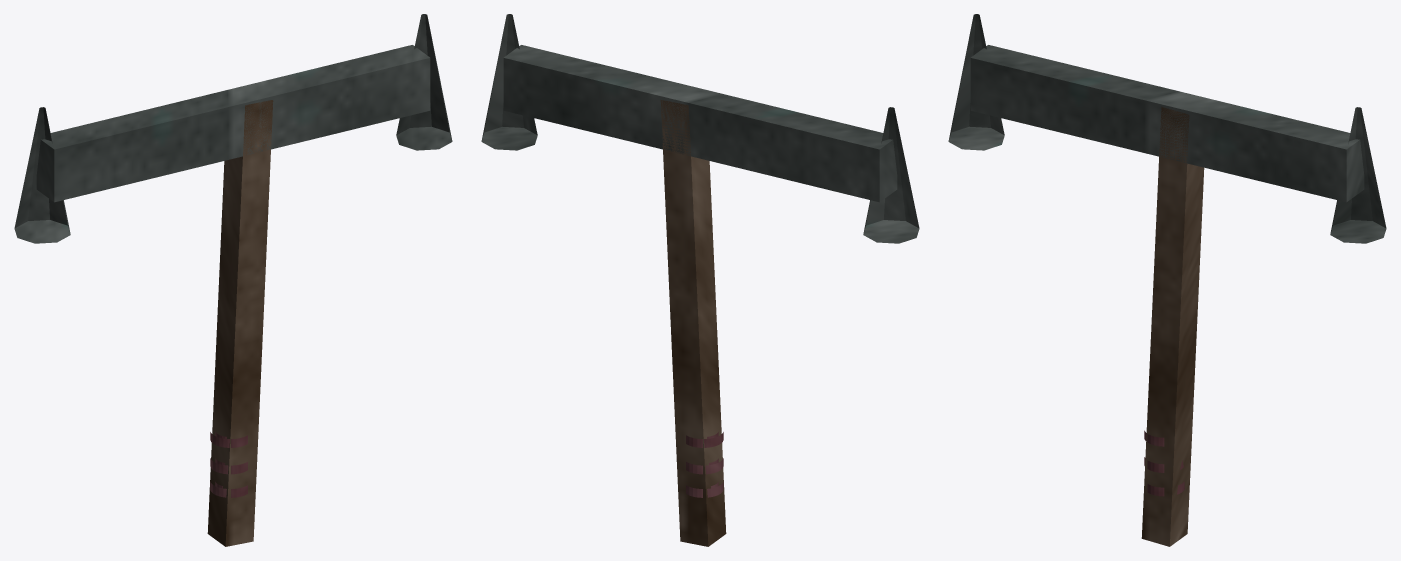
Rendered from 0871_pickaxe_21.glb.
The picture shows the model from 3 angles, left to right: view 1: azimuth 30°, elevation 25°; view 2: azimuth 150°, elevation 25°; view 3: azimuth 330°, elevation 25°; orthographic projection.
Visible parts, largest first — view 1: iron, wood, cloth; view 2: iron, wood, cloth; view 3: iron, wood, cloth.
Part boxes in pixels (<box>): iron: <box>14,14,452,243</box>; wood: <box>207,100,273,546</box>; cloth: <box>210,432,247,497</box>; iron: <box>481,14,919,243</box>; wood: <box>660,100,726,546</box>; cloth: <box>686,432,723,497</box>; iron: <box>948,14,1386,243</box>; wood: <box>1141,106,1204,546</box>; cloth: <box>1144,430,1184,496</box>.
Bounding box in the file's own units: 1.54 × 1.62 × 0.18.
3 materials, 3 textured.
